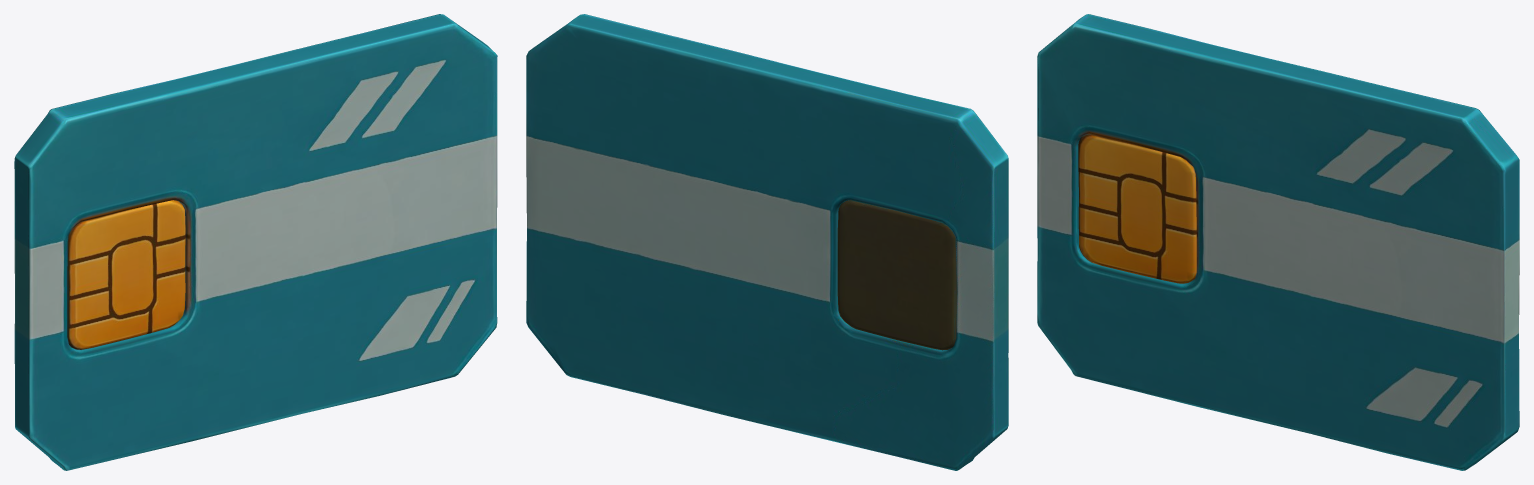
Rendered from keycard.glb.
3 renders of one model, left to right at view 1: azimuth 30°, elevation 25°; view 2: azimuth 150°, elevation 25°; view 3: azimuth 330°, elevation 25°, orthographic.
Parts seen in each view (by area): view 1: keycard; view 2: keycard; view 3: keycard.
Part boxes in pixels (bbox=[...]): keycard: bbox=[14, 14, 497, 470]; keycard: bbox=[526, 14, 1008, 470]; keycard: bbox=[1037, 14, 1519, 470].
Bounding box in the file's own units: 0.09 × 0.065 × 0.00538.
1 material, 1 textured.
